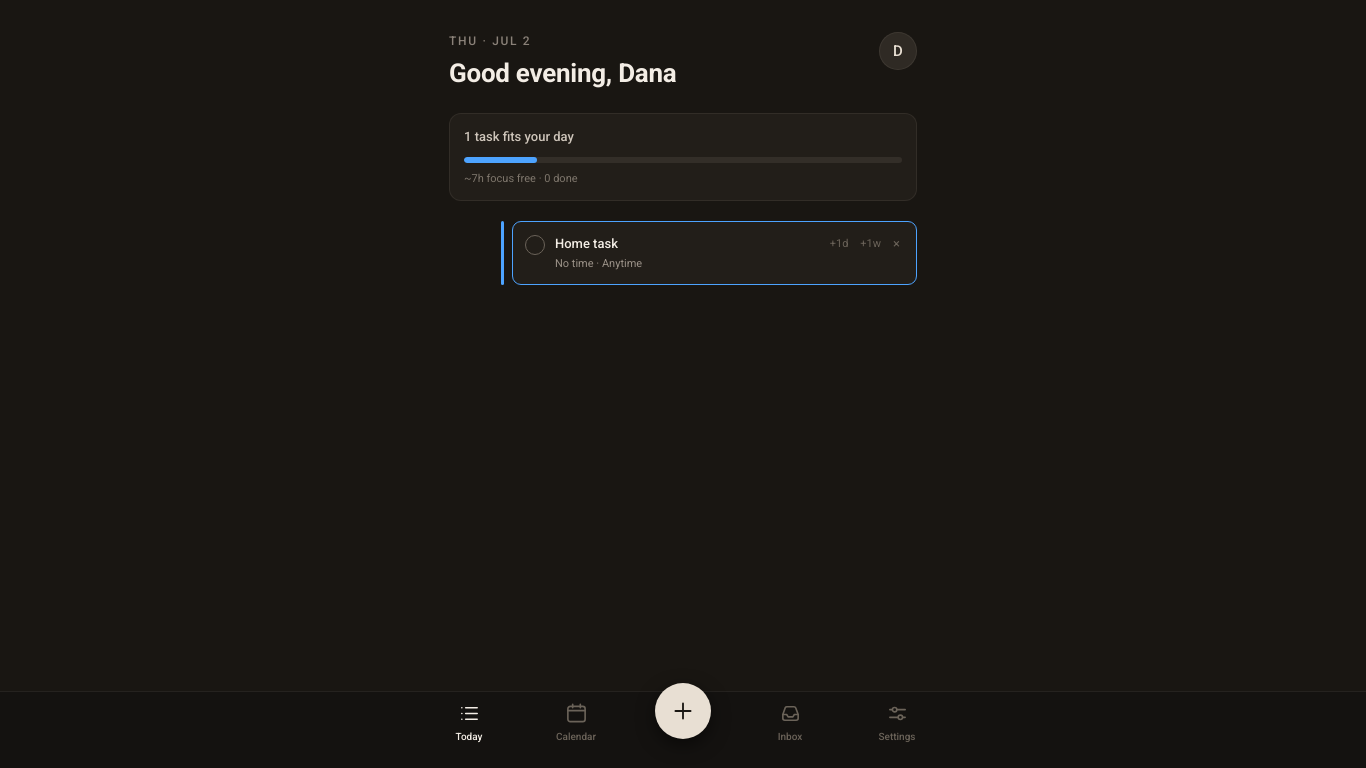
Test: Home tab navigation › center Capture button opens the Capture screen
What coordinates should you click on to do the following:
click the button named "Capture"
I would click on:
 (683, 711)
Its box is x1=655 y1=683 x2=711 y2=739.
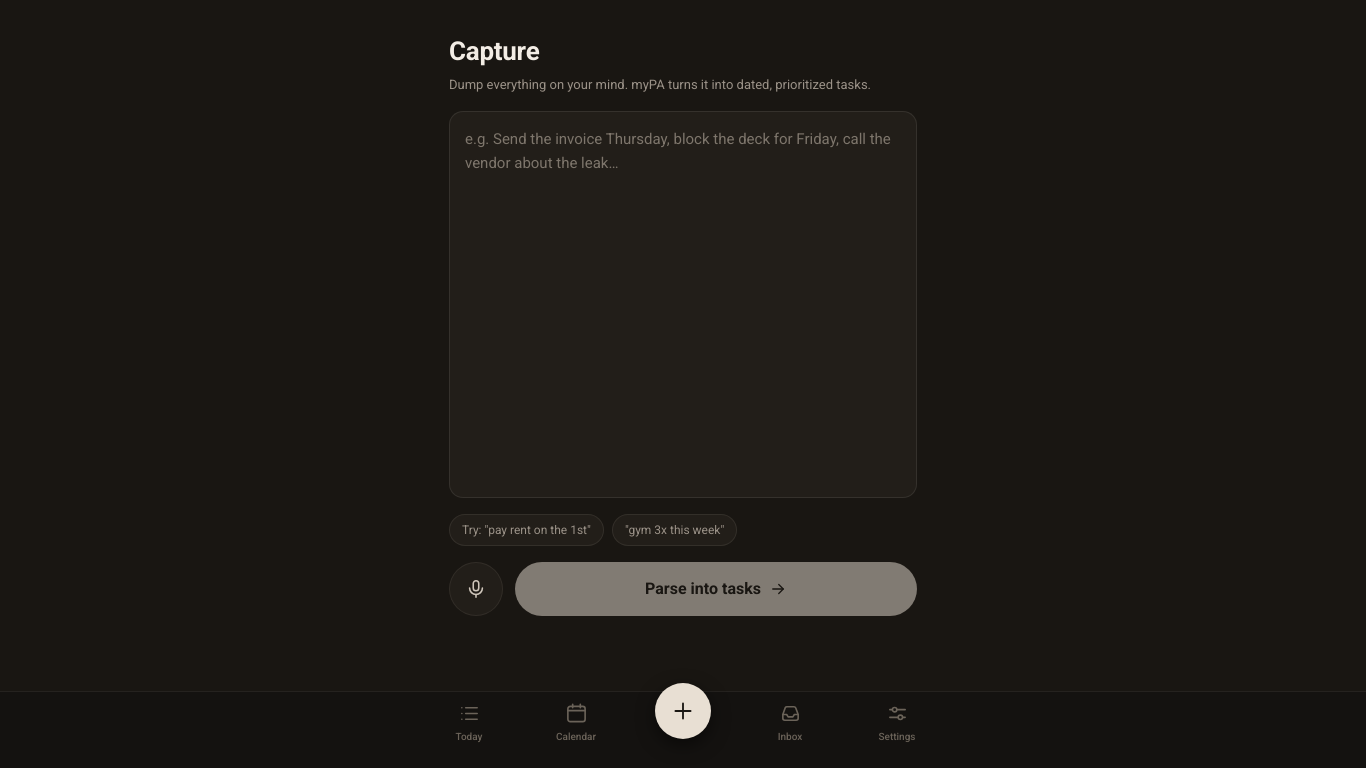
expect the heading "Capture" is shown: met, box x1=449 y1=36 x2=539 y2=66
expect the text box named "Brain dump" is shown: met, box x1=449 y1=110 x2=917 y2=498
